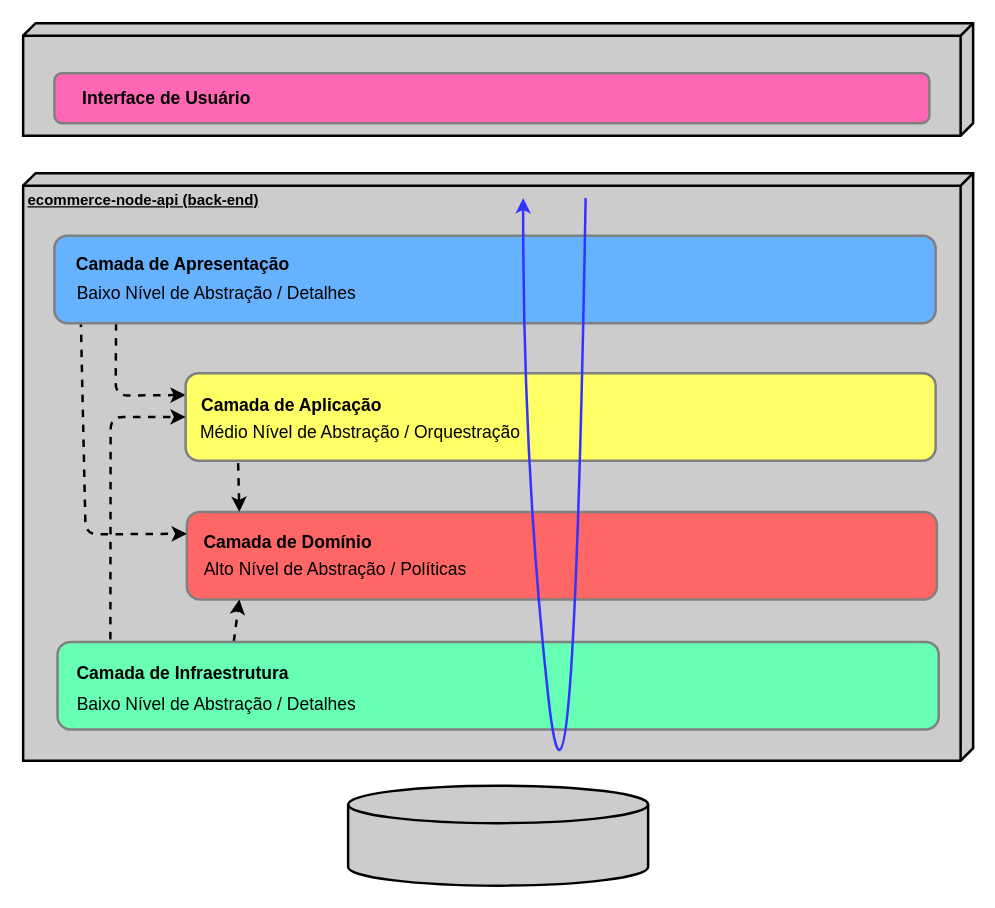
The diagram is 995 pixels wide and 908 high, and some of its shapes have lost their labels. The box of each missing label's shape, as (x1, y1, x2, y2) in pixels:
Database (Relacional): (346, 784, 649, 886)
ecommerce-web-app (front-end): (21, 21, 974, 136)
